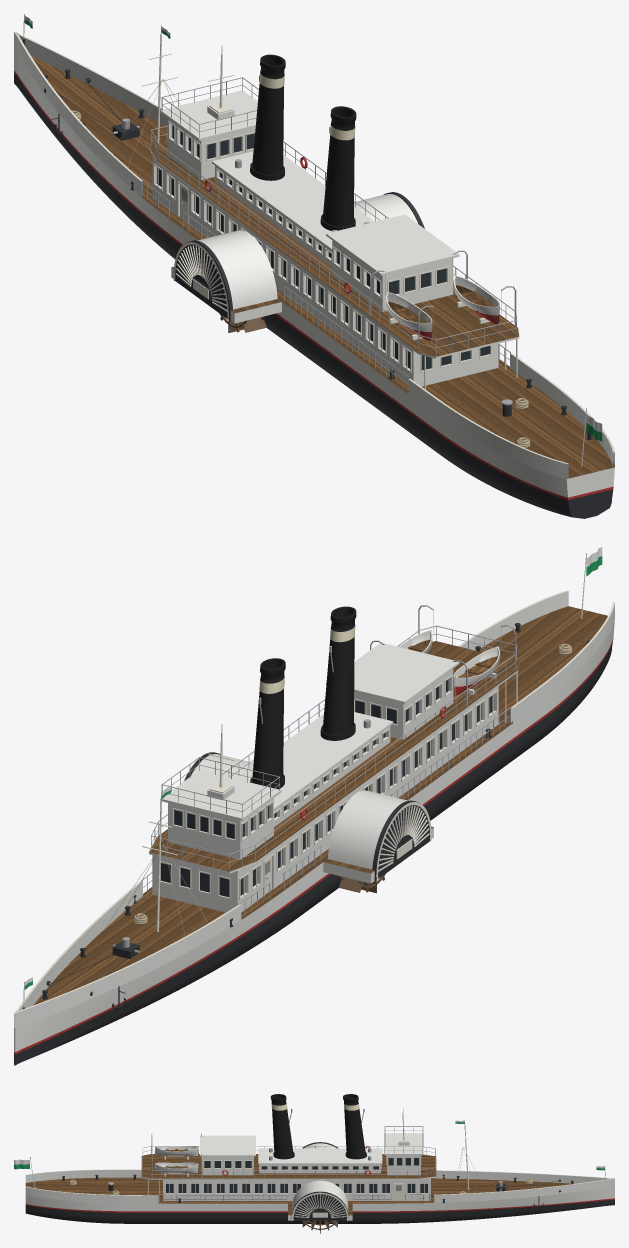
Rendered from dampfer.glb.
The picture shows the model from 3 angles, top to bottom: view 1: azimuth 30°, elevation 25°; view 2: azimuth 150°, elevation 25°; view 3: azimuth 270°, elevation 25°; orthographic projection. The views are drawn at different scales.
Parts seen in each view (by area): view 1: Hull, Superstructure, Railings, FunnelFront, FunnelBack, Fittings, Lifeboats; view 2: Hull, Superstructure, Railings, FunnelBack, FunnelFront, Fittings, Lifeboats; view 3: Hull, Superstructure, Railings, FunnelBack, FunnelFront, Lifeboats, Fittings, PaddleR.
Boxes of the visible parts, x1,y1,x2,y2 form: Hull: (14, 31, 614, 518); Superstructure: (149, 90, 519, 389); Railings: (141, 77, 516, 389); FunnelFront: (250, 54, 285, 180); FunnelBack: (320, 106, 356, 230); Fittings: (23, 14, 602, 466); Lifeboats: (370, 250, 516, 351); Hull: (14, 590, 614, 1065); Superstructure: (149, 641, 519, 912); Railings: (141, 625, 517, 915); FunnelBack: (320, 606, 356, 740); FunnelFront: (250, 658, 285, 789); Fittings: (23, 547, 602, 1009); Lifeboats: (370, 605, 516, 705); Hull: (25, 1142, 614, 1223); Superstructure: (141, 1133, 436, 1201); Railings: (142, 1126, 435, 1202); FunnelBack: (270, 1094, 294, 1159); FunnelFront: (343, 1094, 366, 1159); Lifeboats: (151, 1133, 201, 1178); Fittings: (14, 1108, 605, 1207); PaddleR: (302, 1220, 337, 1233).
Bounding box in the file's own units: 12.68 × 13.9 × 63.22.
13 materials, 1 textured.
